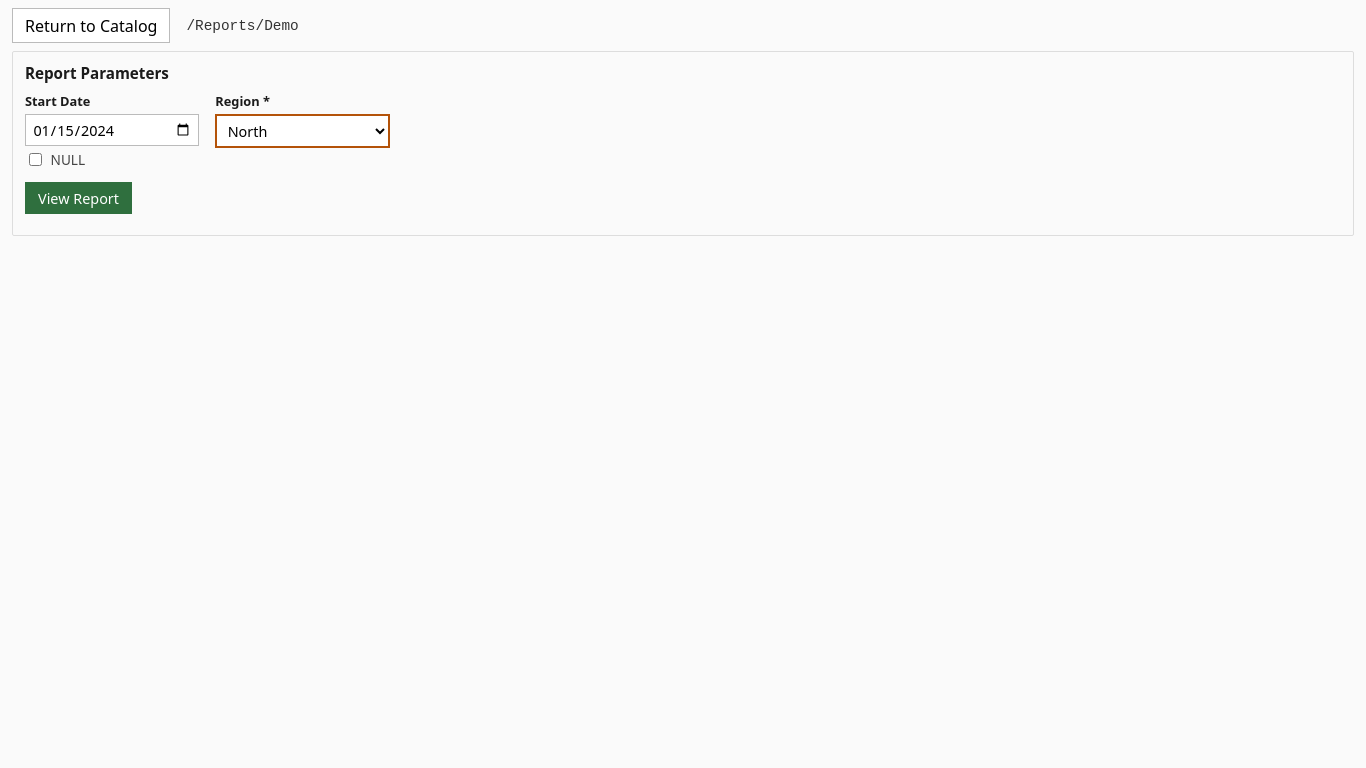
Test: Report Viewer chrome composition › keeps Document Map Visibility when navigate fails
Click the button "View Report". click: click(78, 198)
box: [25,182,132,214]
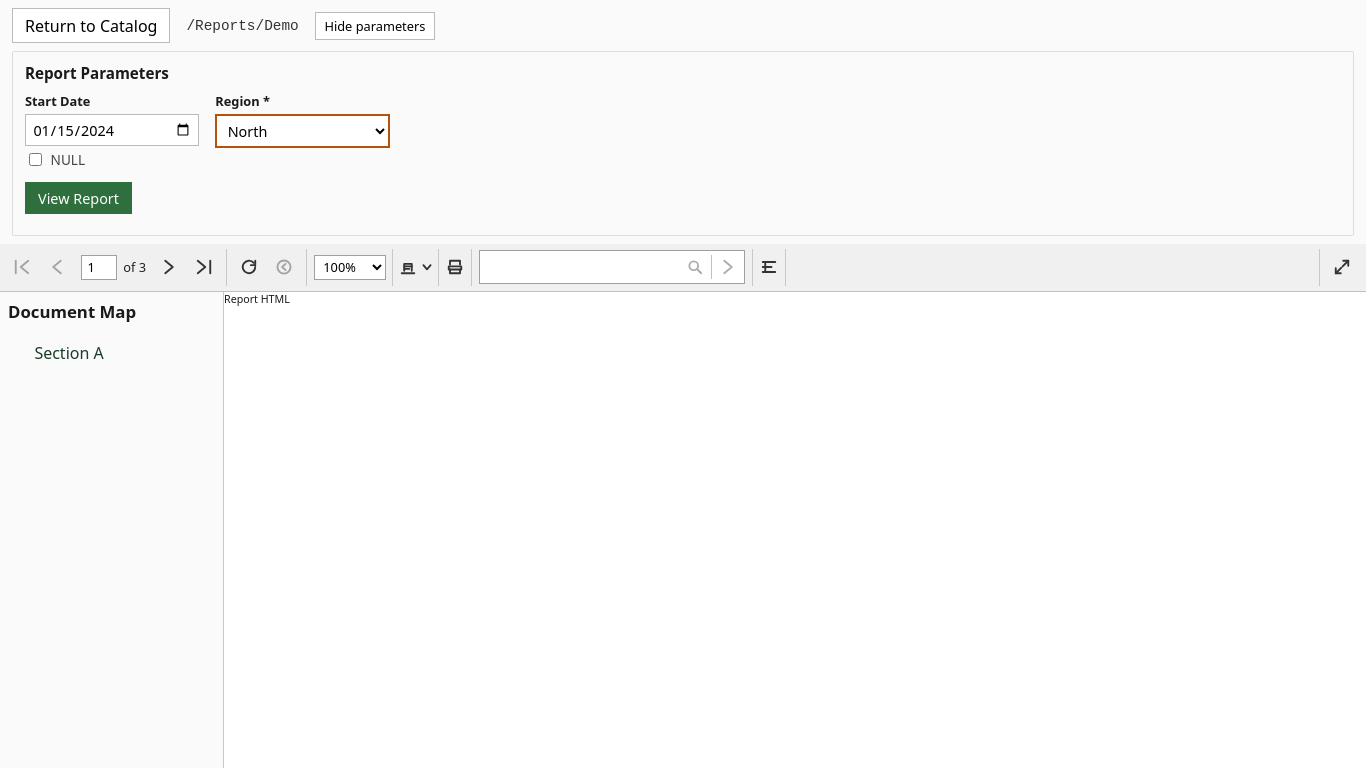
Expected: the element named "Report Viewer toolbar" is shown, [0,244,1365,292]
Expected: the navigation bar "Document Map" is shown, [0,292,223,767]
Expected: the button named "Hide Document Map" is shown, [753,246,785,288]
Click the button "Section A". click: click(122, 353)
box: [28,336,215,370]
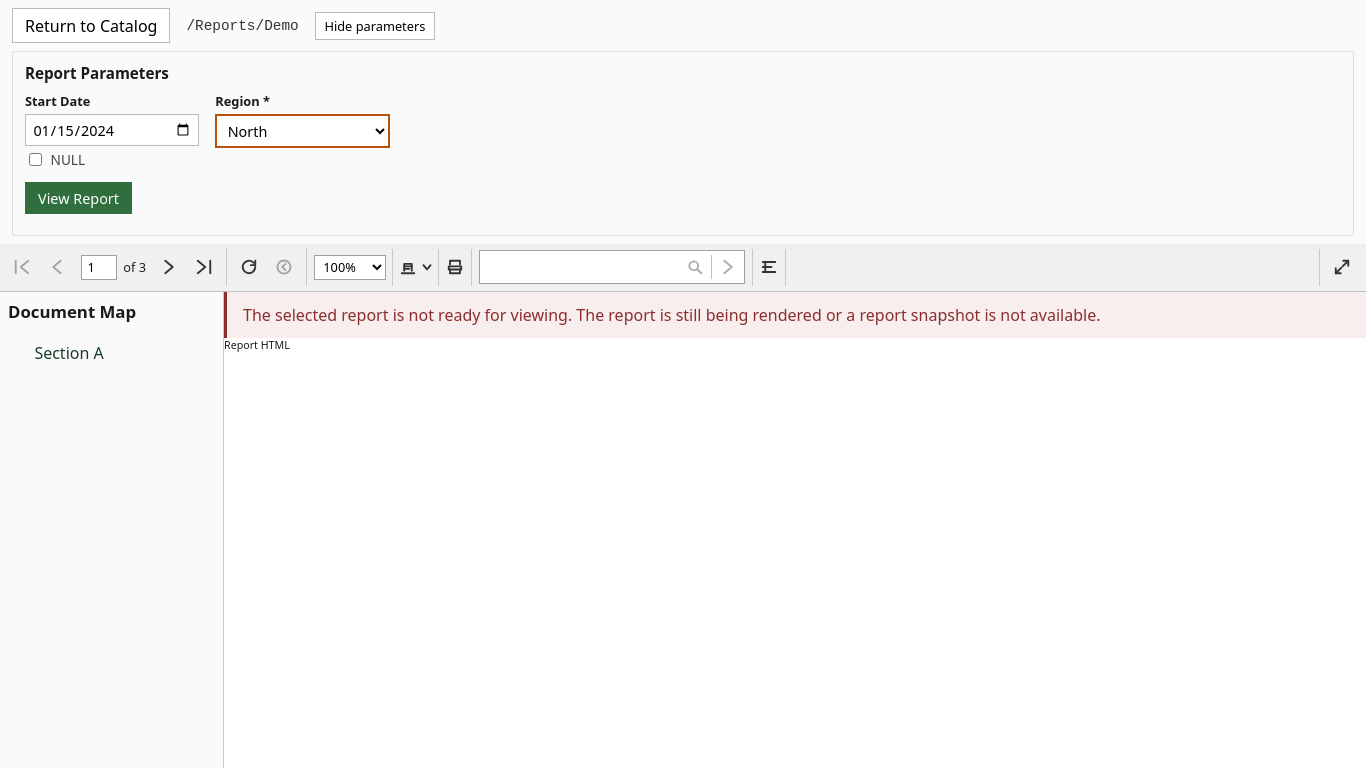
Expected: the navigation bar "Document Map" is shown, [0,292,223,767]
Expected: the button named "Hide Document Map" is shown, [753,246,785,288]
Expected: the message shows "The selected report is not ready for viewing. The report is still being rendered or a report snapshot is not available.", [243,304,1100,326]
